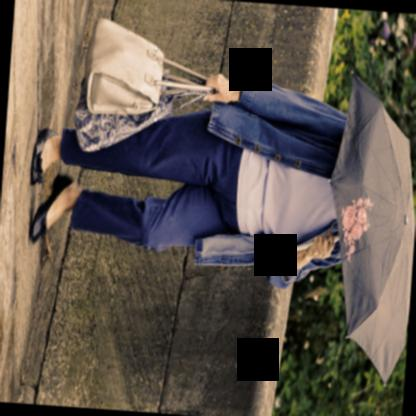handbag: (78, 8, 205, 116), (74, 88, 209, 153)
